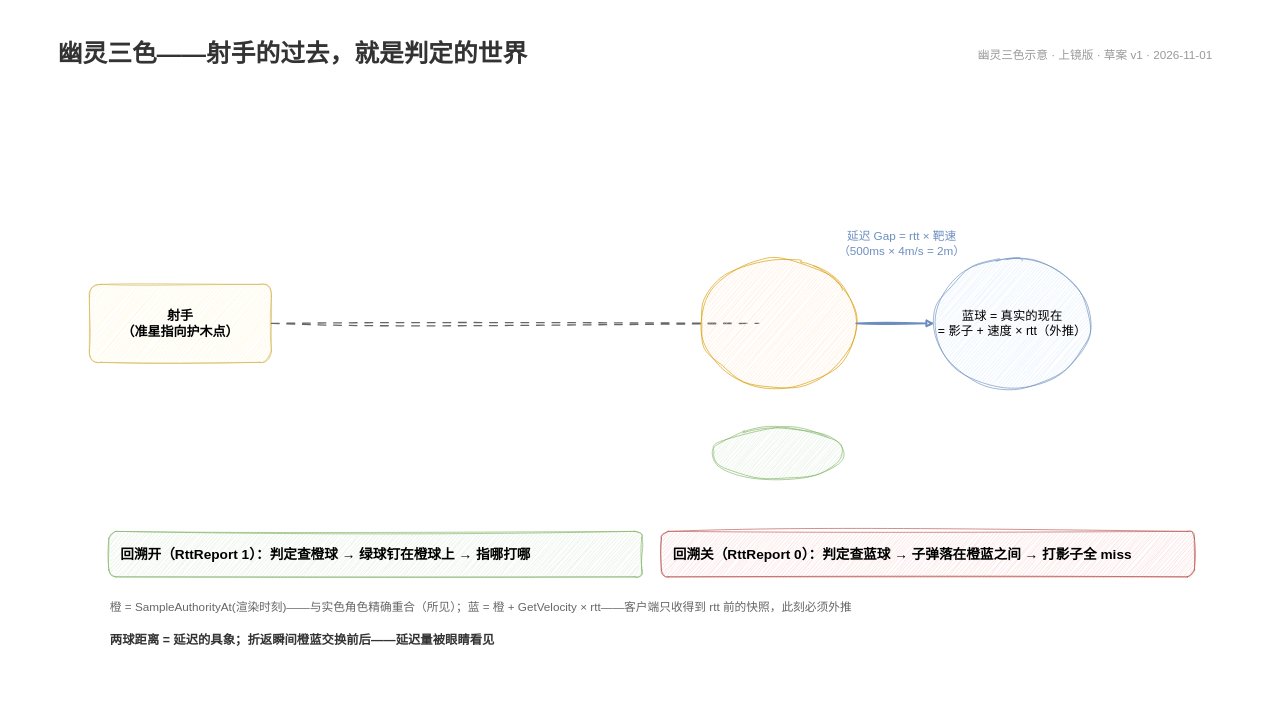
This 1270x724 diagram has some shape labels left out. Each missing label, with the box of its shape:
橙球 = 判定历史位 = 您看到的影子 = 所见快照拍摄时刻的它: (700, 258, 856, 388)
绿球 = 命中标记: (713, 427, 843, 479)
